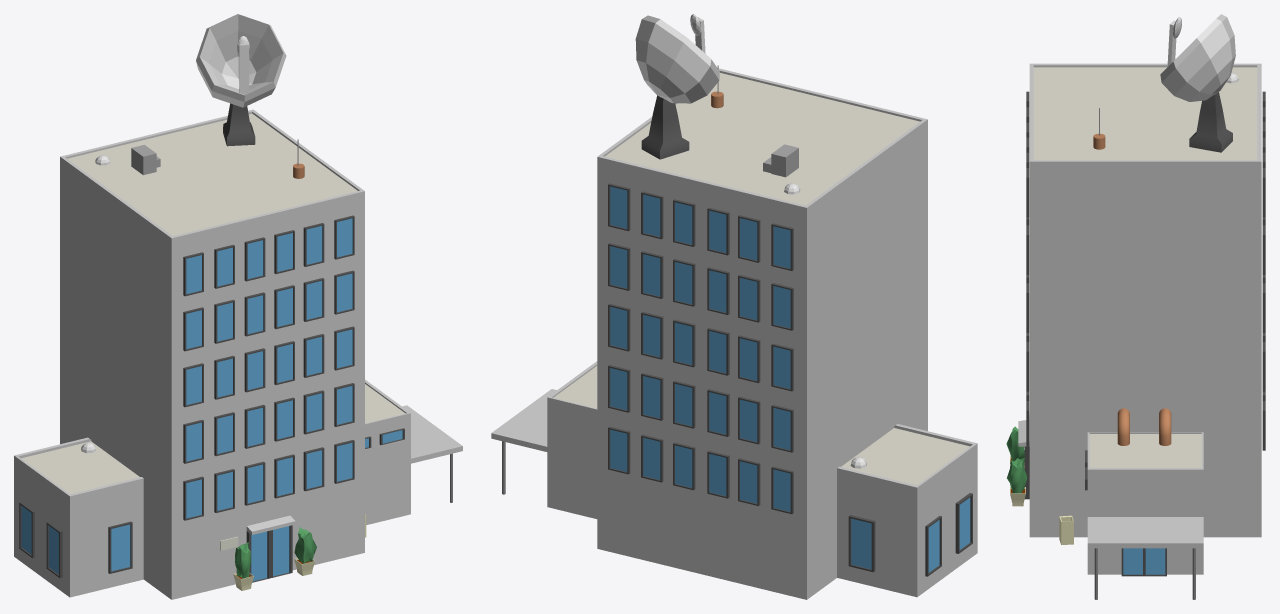
File: Headquarters Building.fbx
The picture shows the model from 3 angles, left to right: view 1: azimuth 30°, elevation 25°; view 2: azimuth 150°, elevation 25°; view 3: azimuth 270°, elevation 25°; orthographic projection. The views are drawn at different scales.
Visible parts, largest first — view 1: pCube1, pSphere1, pCube36, pCube5, pCube20, pCube32, pCube7, pCube14, pCube16, pCube26, pCube11, pCube28 (+25 smaller); view 2: pCube1, pSphere1, pCube5, pCube39, pCube43, pCube52, pCube66, pCube41, pCube45, pCube49, pCube50, pCube51 (+25 smaller); view 3: pCube1, pSphere1, pCube5, pCube75 (×2), pCube78, pCube77, pCylinder5, pCylinder6, pCube71.
Boxes of the visible parts, box(x1,y1,x2,y2) form: pCube1: box(14, 109, 462, 599); pSphere1: box(196, 14, 286, 107); pCube36: box(108, 521, 132, 573); pCube5: box(223, 103, 255, 146); pCube20: box(244, 348, 265, 392); pCube32: box(244, 237, 265, 281); pCube7: box(303, 447, 324, 491); pCube14: box(244, 404, 265, 448); pCube16: box(303, 390, 324, 434); pCube26: box(244, 292, 265, 336); pCube11: box(244, 461, 265, 505); pCube28: box(303, 278, 324, 321); pCube1: box(491, 68, 977, 599); pSphere1: box(635, 15, 719, 103); pCube5: box(641, 95, 689, 159); pCube39: box(848, 515, 875, 572); pCube43: box(771, 466, 793, 514); pCube52: box(771, 343, 793, 391); pCube66: box(707, 207, 729, 255); pCube41: box(641, 434, 663, 482); pCube45: box(707, 451, 729, 498); pCube49: box(673, 380, 695, 428); pCube50: box(641, 373, 663, 420); pCube51: box(608, 365, 630, 412); pCube1: box(1018, 63, 1261, 574); pSphere1: box(1160, 14, 1235, 101); pCube5: box(1189, 92, 1232, 152); pCube75 (×2): box(1006, 426, 1027, 493); pCube78: box(1144, 548, 1166, 576); pCube77: box(1121, 548, 1143, 576); pCylinder5: box(1159, 408, 1171, 445); pCylinder6: box(1117, 408, 1129, 445); pCube71: box(1059, 515, 1073, 544).
Bounding box in the file's own units: 2.05 × 2.39 × 1.12.
